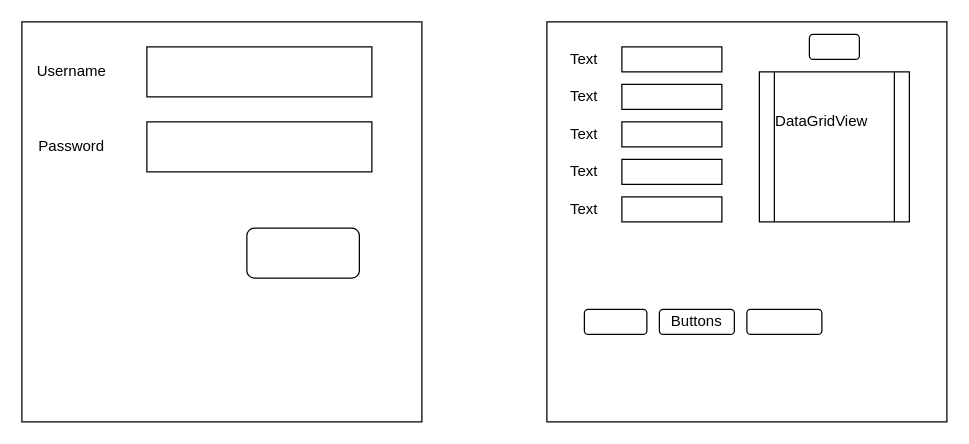
Image size: 969x444. Some labels were removed from this diagram. Here are the shapes that lost their labels. From the top down, the box of each, then its label:
(808, 33, 859, 59): Button
(246, 227, 359, 278): Login
